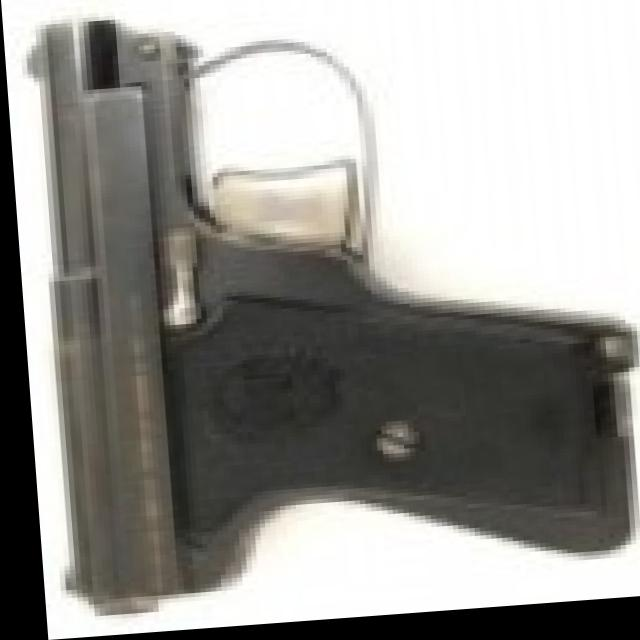handgun: (12, 0, 629, 623)
